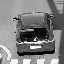mobil: (12, 10, 58, 56)
